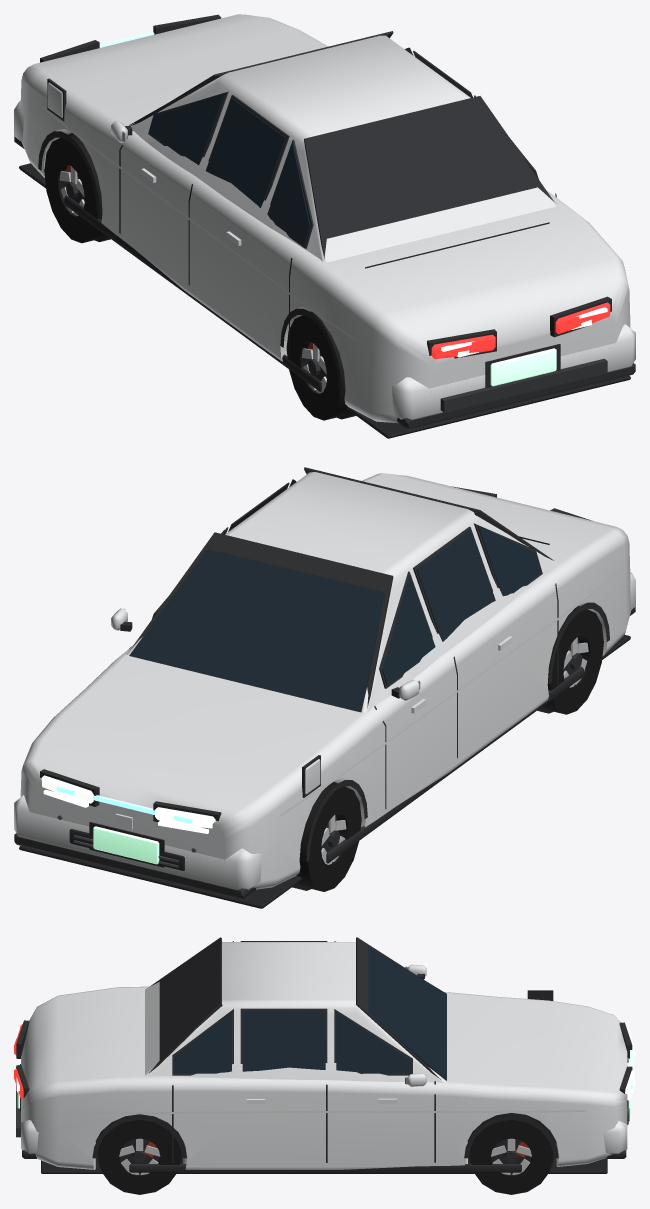
File: car_nev_sedan_white.glb
3 renders of one model, top to bottom at view 1: azimuth 30°, elevation 25°; view 2: azimuth 150°, elevation 25°; view 3: azimuth 270°, elevation 25°, orthographic. The views are drawn at different scales.
Parts seen in each view (by area): view 1: Body, Trim, Glass, Wheel_FL, Wheel_RL, Lights, Plate_R; view 2: Body, Glass, Trim, Wheel_FL, Wheel_RL, Lights, Plate_F; view 3: Body, Glass, Trim, Wheel_FR, Wheel_RR, Lights.
Part boxes in pixels (x1,y1,x2,y2): Body: [14, 14, 635, 423]; Trim: [14, 14, 635, 438]; Glass: [122, 34, 514, 245]; Wheel_FL: [44, 134, 105, 243]; Wheel_RL: [286, 312, 349, 420]; Lights: [99, 32, 610, 359]; Plate_R: [490, 348, 556, 386]; Body: [14, 472, 635, 889]; Glass: [124, 472, 541, 712]; Trim: [14, 467, 635, 908]; Wheel_FL: [296, 783, 361, 891]; Wheel_RL: [542, 606, 603, 714]; Lights: [41, 775, 215, 833]; Plate_F: [93, 826, 159, 864]; Body: [21, 942, 627, 1169]; Glass: [174, 946, 446, 1084]; Trim: [16, 937, 632, 1173]; Wheel_FR: [470, 1113, 552, 1194]; Wheel_RR: [98, 1114, 181, 1194]; Lights: [14, 1024, 635, 1100].
Size of the model in its own units: 2.03 by 1.49 by 4.72.
